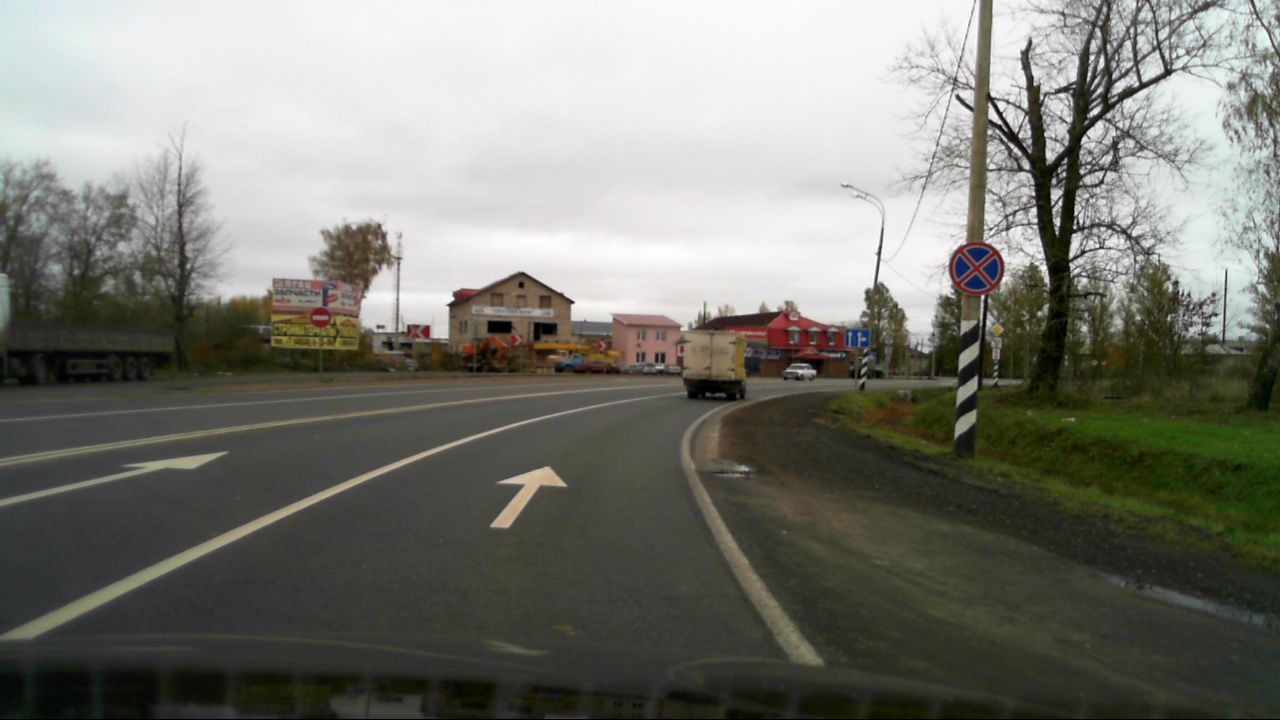No Parking: (947, 242, 1003, 296)
